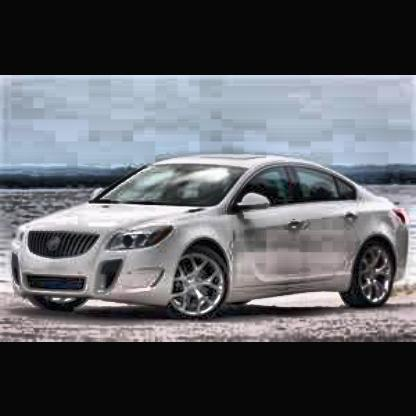Buick Regal GS 2012: (15, 159, 411, 322)
